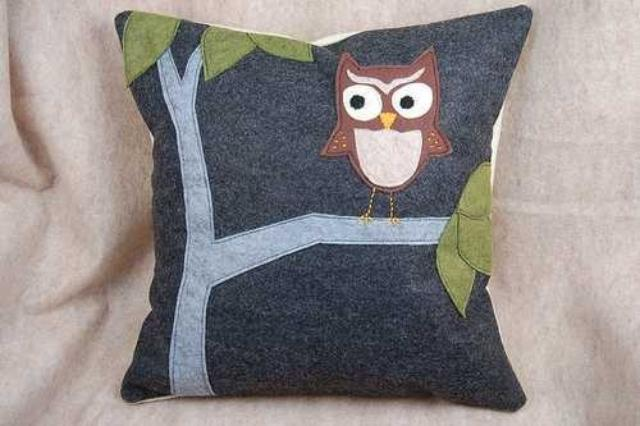pillow: (113, 4, 532, 412)
